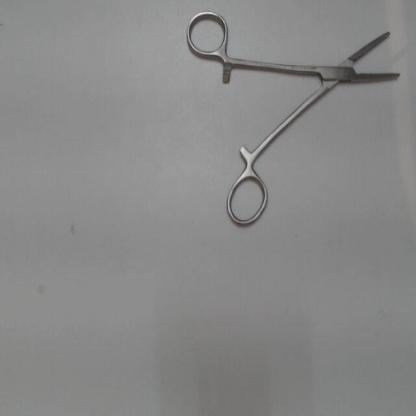Mayo Needle Holder: (183, 5, 408, 237)
